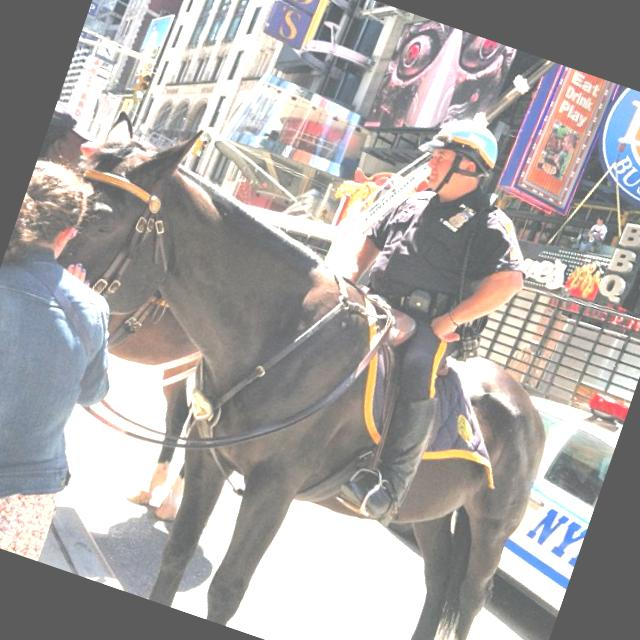Vehicle: (458, 372, 630, 631)
